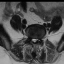CCS_severe_stenosis: (33, 36, 35, 44)
LFS_severe_stenosis: (38, 35, 40, 41)
LLS_stenosis: (36, 36, 38, 43)
RFS_severe_stenosis: (29, 34, 31, 41)
RLS_normal: (31, 36, 33, 43)
